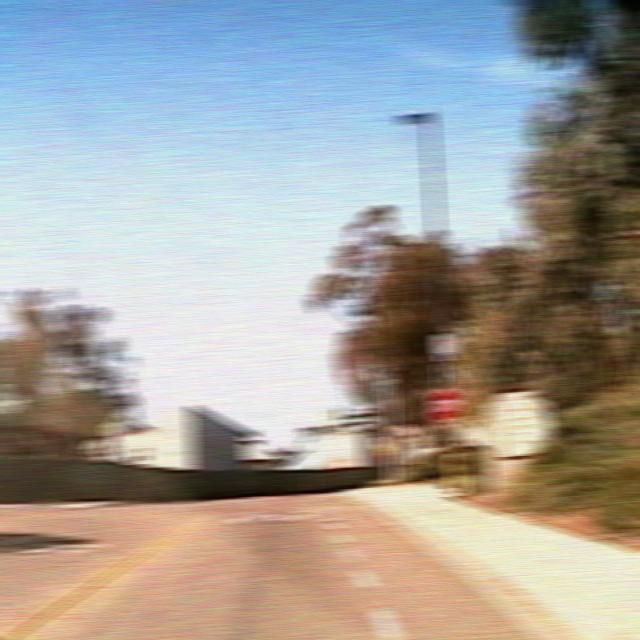stop: (427, 387, 461, 422)
